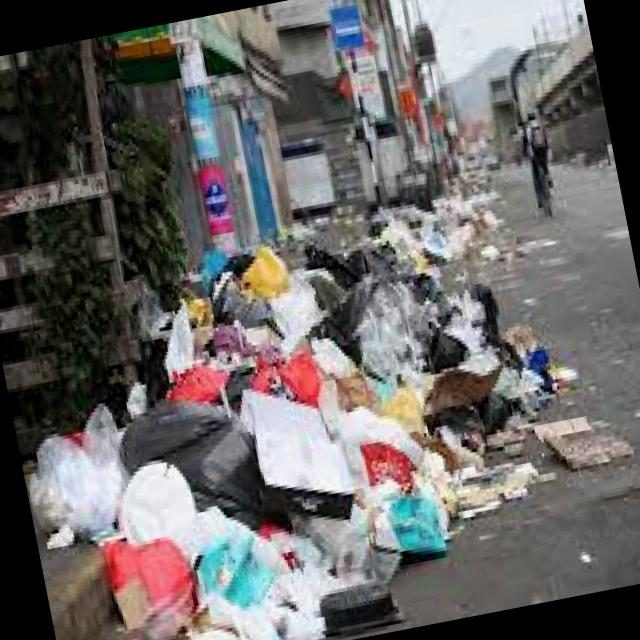garbage: (0, 174, 584, 640)
